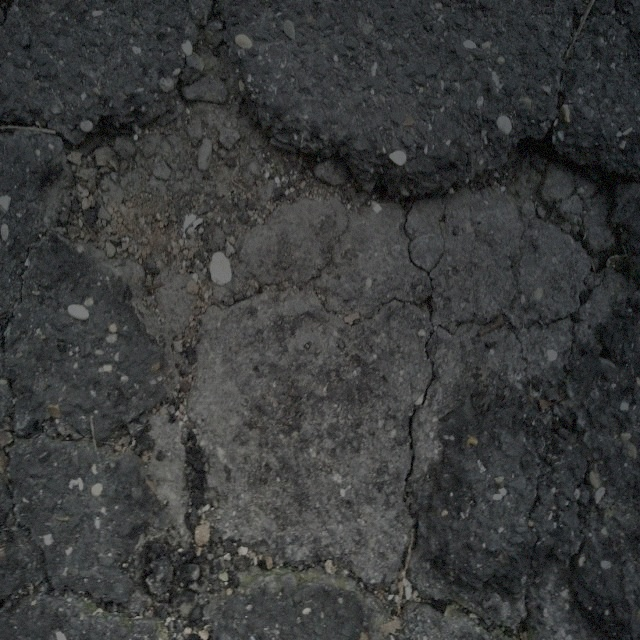pothole: (175, 145, 626, 580), (51, 46, 339, 315)
